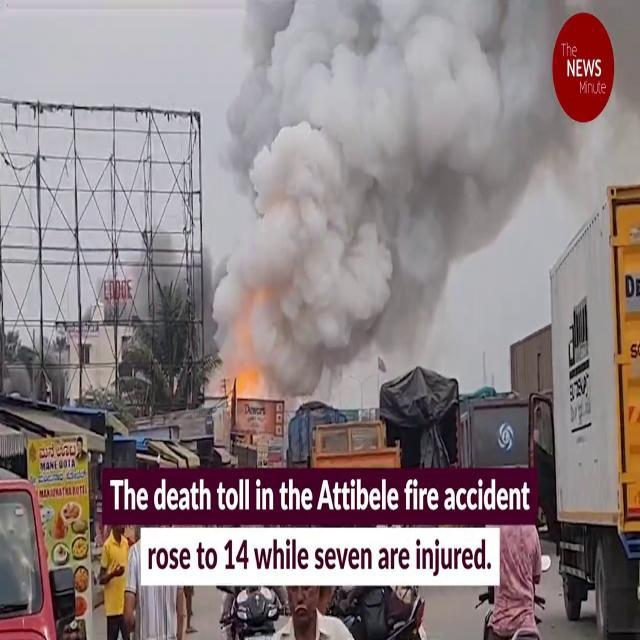Smoke: (197, 0, 566, 365)
